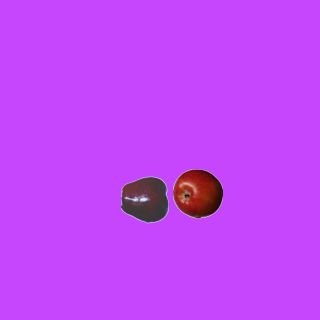Apple Braeburn: (172, 168, 222, 218)
Apple Red Delicious: (120, 174, 170, 224)
